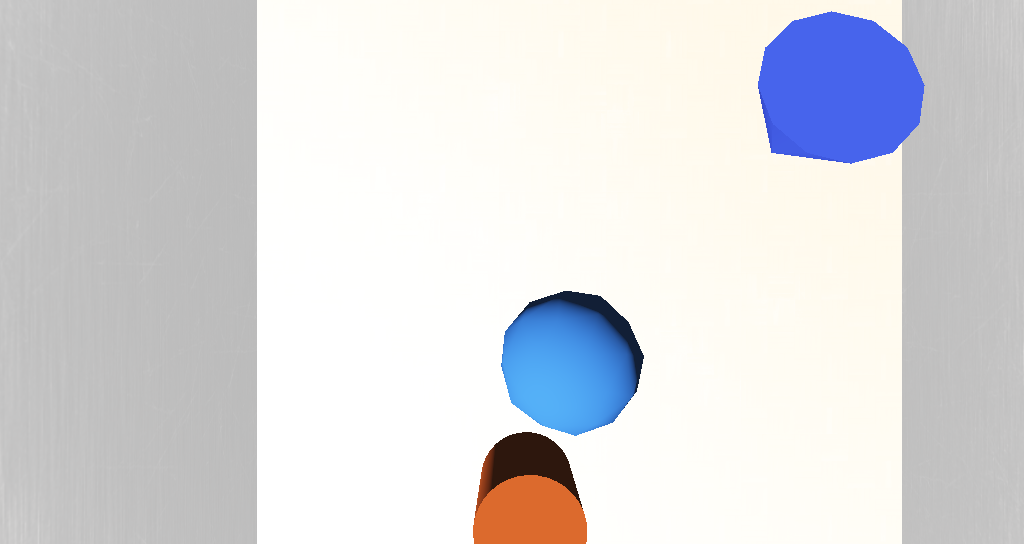cone: (455, 320, 502, 358)
cylinder: (566, 191, 633, 248)
sphere: (465, 272, 532, 320)
